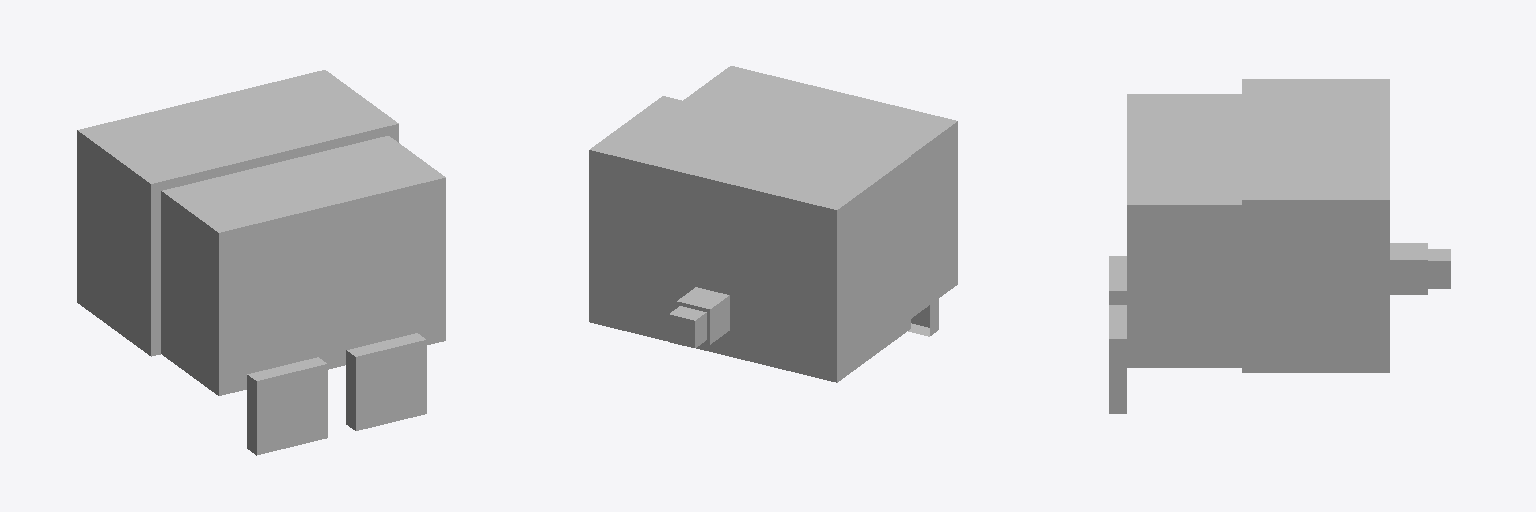
File: eZBotMoverTop.obj
3 views of the same model, side by side, from view 1: azimuth 30°, elevation 25°; view 2: azimuth 150°, elevation 25°; view 3: azimuth 270°, elevation 25° (orthographic).
Bounding box in the file's own units: 2.17 × 1.94 × 2.6.